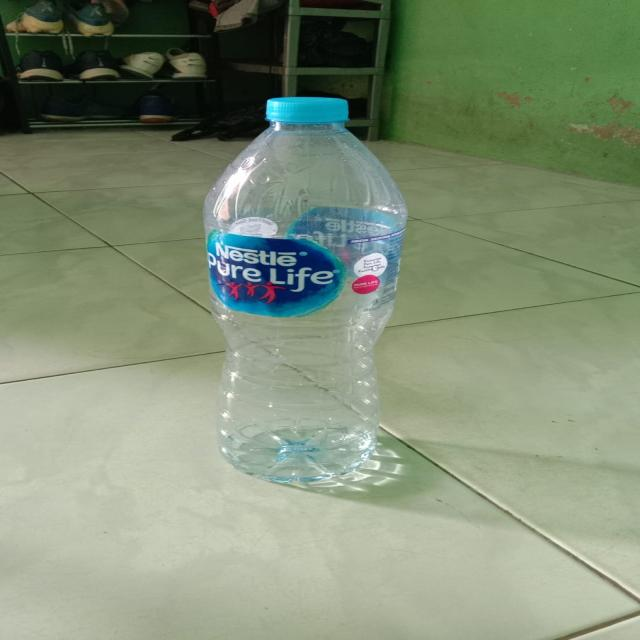botolminum: (173, 70, 443, 516)
